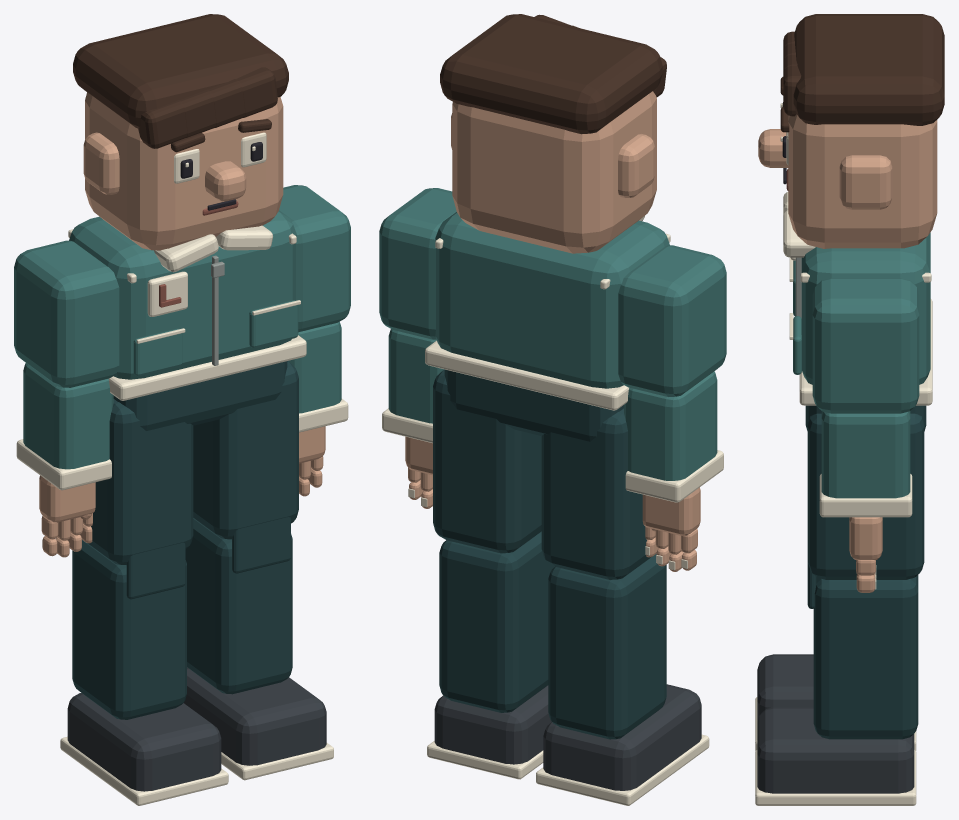
Rendered from learner.glb.
3 renders of one model, left to right at view 1: azimuth 30°, elevation 25°; view 2: azimuth 150°, elevation 25°; view 3: azimuth 270°, elevation 25°, orthographic. The views are drawn at different scales.
Visible parts, largest first — view 1: Face, Jacket, LeftShin, RightShin, HairCap, LeftSleeve, RightThigh, LeftThigh, LeftShoe, RightShoe, RightSleeve, LeftForearm (+23 smaller); view 2: Jacket, Face, LeftShin, HairCap, RightShin, RightThigh, LeftSleeve, LeftThigh, LeftShoe, RightSleeve, LeftForearm, TrouserSeat (+10 smaller); view 3: RightShin, HairCap, Face, RightSleeve, RightShoe, RightThigh, RightForearm, Jacket, LeftShoe, RightEar, RightSole, RightCuff (+8 smaller).
Boxes of the visible parts, bbox=[...] form: Face: bbox=[85, 92, 283, 250]; Jacket: bbox=[69, 210, 296, 379]; LeftShin: bbox=[72, 540, 186, 719]; RightShin: bbox=[185, 518, 292, 694]; HairCap: bbox=[73, 14, 288, 128]; LeftSleeve: bbox=[14, 240, 119, 387]; RightThigh: bbox=[193, 361, 298, 539]; LeftThigh: bbox=[87, 399, 193, 564]; LeftShoe: bbox=[67, 693, 221, 791]; RightShoe: bbox=[183, 667, 326, 765]; RightSleeve: bbox=[279, 185, 350, 332]; LeftForearm: bbox=[23, 363, 113, 469]; Jacket: bbox=[435, 212, 669, 388]; Face: bbox=[452, 91, 656, 253]; LeftShin: bbox=[548, 554, 666, 739]; HairCap: bbox=[440, 14, 662, 134]; RightShin: bbox=[439, 531, 554, 712]; RightThigh: bbox=[433, 369, 541, 553]; LeftSleeve: bbox=[618, 245, 726, 396]; LeftThigh: bbox=[541, 408, 650, 579]; LeftShoe: bbox=[543, 684, 701, 790]; RightSleeve: bbox=[379, 188, 456, 339]; LeftForearm: bbox=[624, 371, 717, 480]; TrouserSeat: bbox=[444, 369, 623, 441]; RightShin: bbox=[813, 575, 918, 739]; HairCap: bbox=[793, 14, 944, 125]; Face: bbox=[788, 114, 937, 248]; RightSleeve: bbox=[812, 278, 919, 413]; RightShoe: bbox=[757, 707, 914, 793]; RightThigh: bbox=[807, 413, 924, 579]; RightForearm: bbox=[821, 411, 910, 498]; Jacket: bbox=[801, 232, 930, 384]; LeftShoe: bbox=[757, 654, 813, 721]; RightEar: bbox=[839, 155, 892, 209]; RightSole: bbox=[755, 750, 916, 805]; RightCuff: bbox=[819, 474, 912, 517].
Bounding box in the file's own units: 0.875 × 1.95 × 0.4705.
